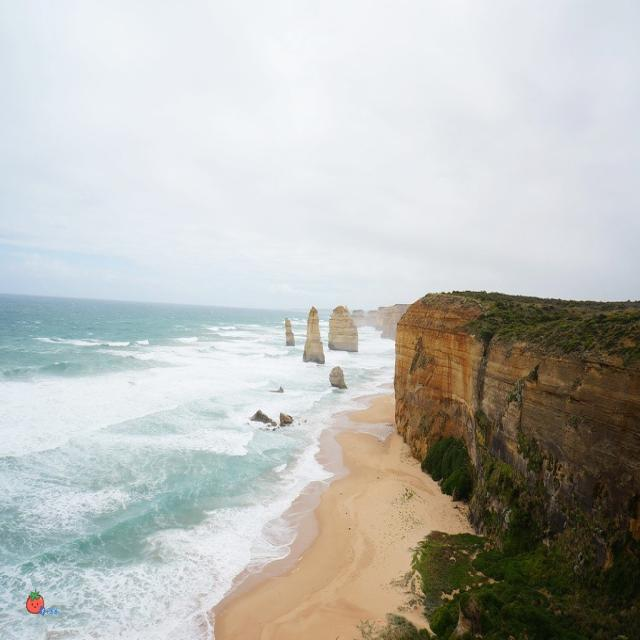reef: (255, 291, 416, 446)
